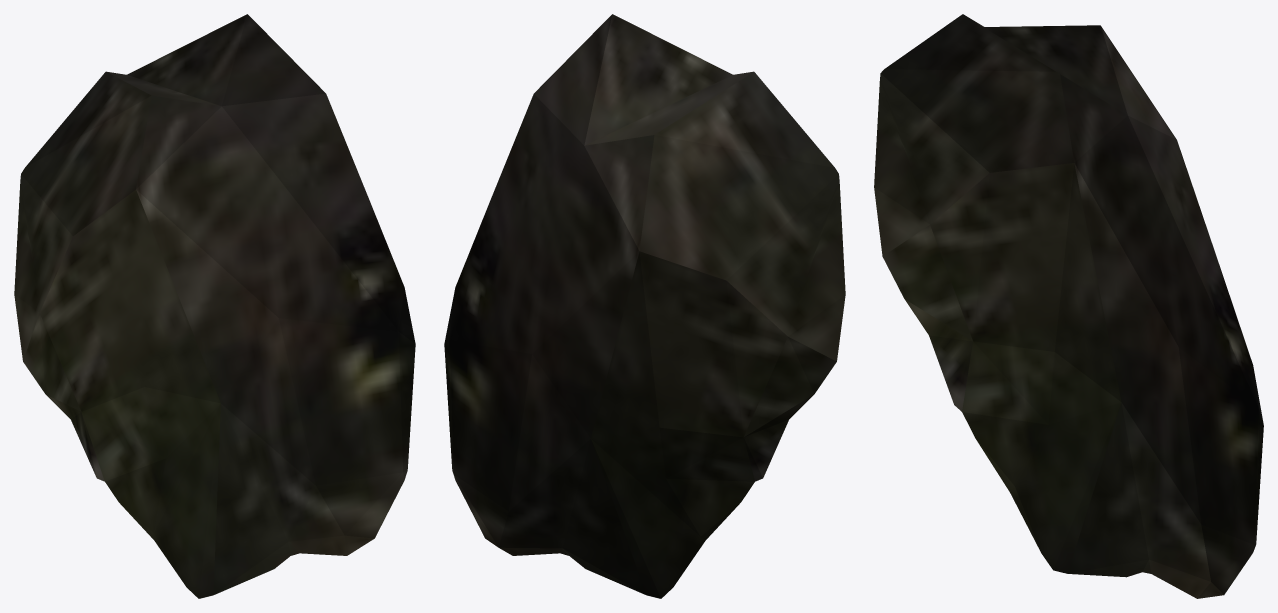
3 renders of one model, left to right at view 1: azimuth 30°, elevation 25°; view 2: azimuth 150°, elevation 25°; view 3: azimuth 330°, elevation 25°, orthographic. The views are drawn at different scales.
Bounding box in the file's own units: 0.4605 × 0.6284 × 0.0839.
1 material, 1 textured.
